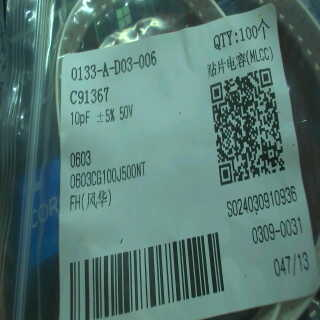10pF: (63, 106, 95, 133)
